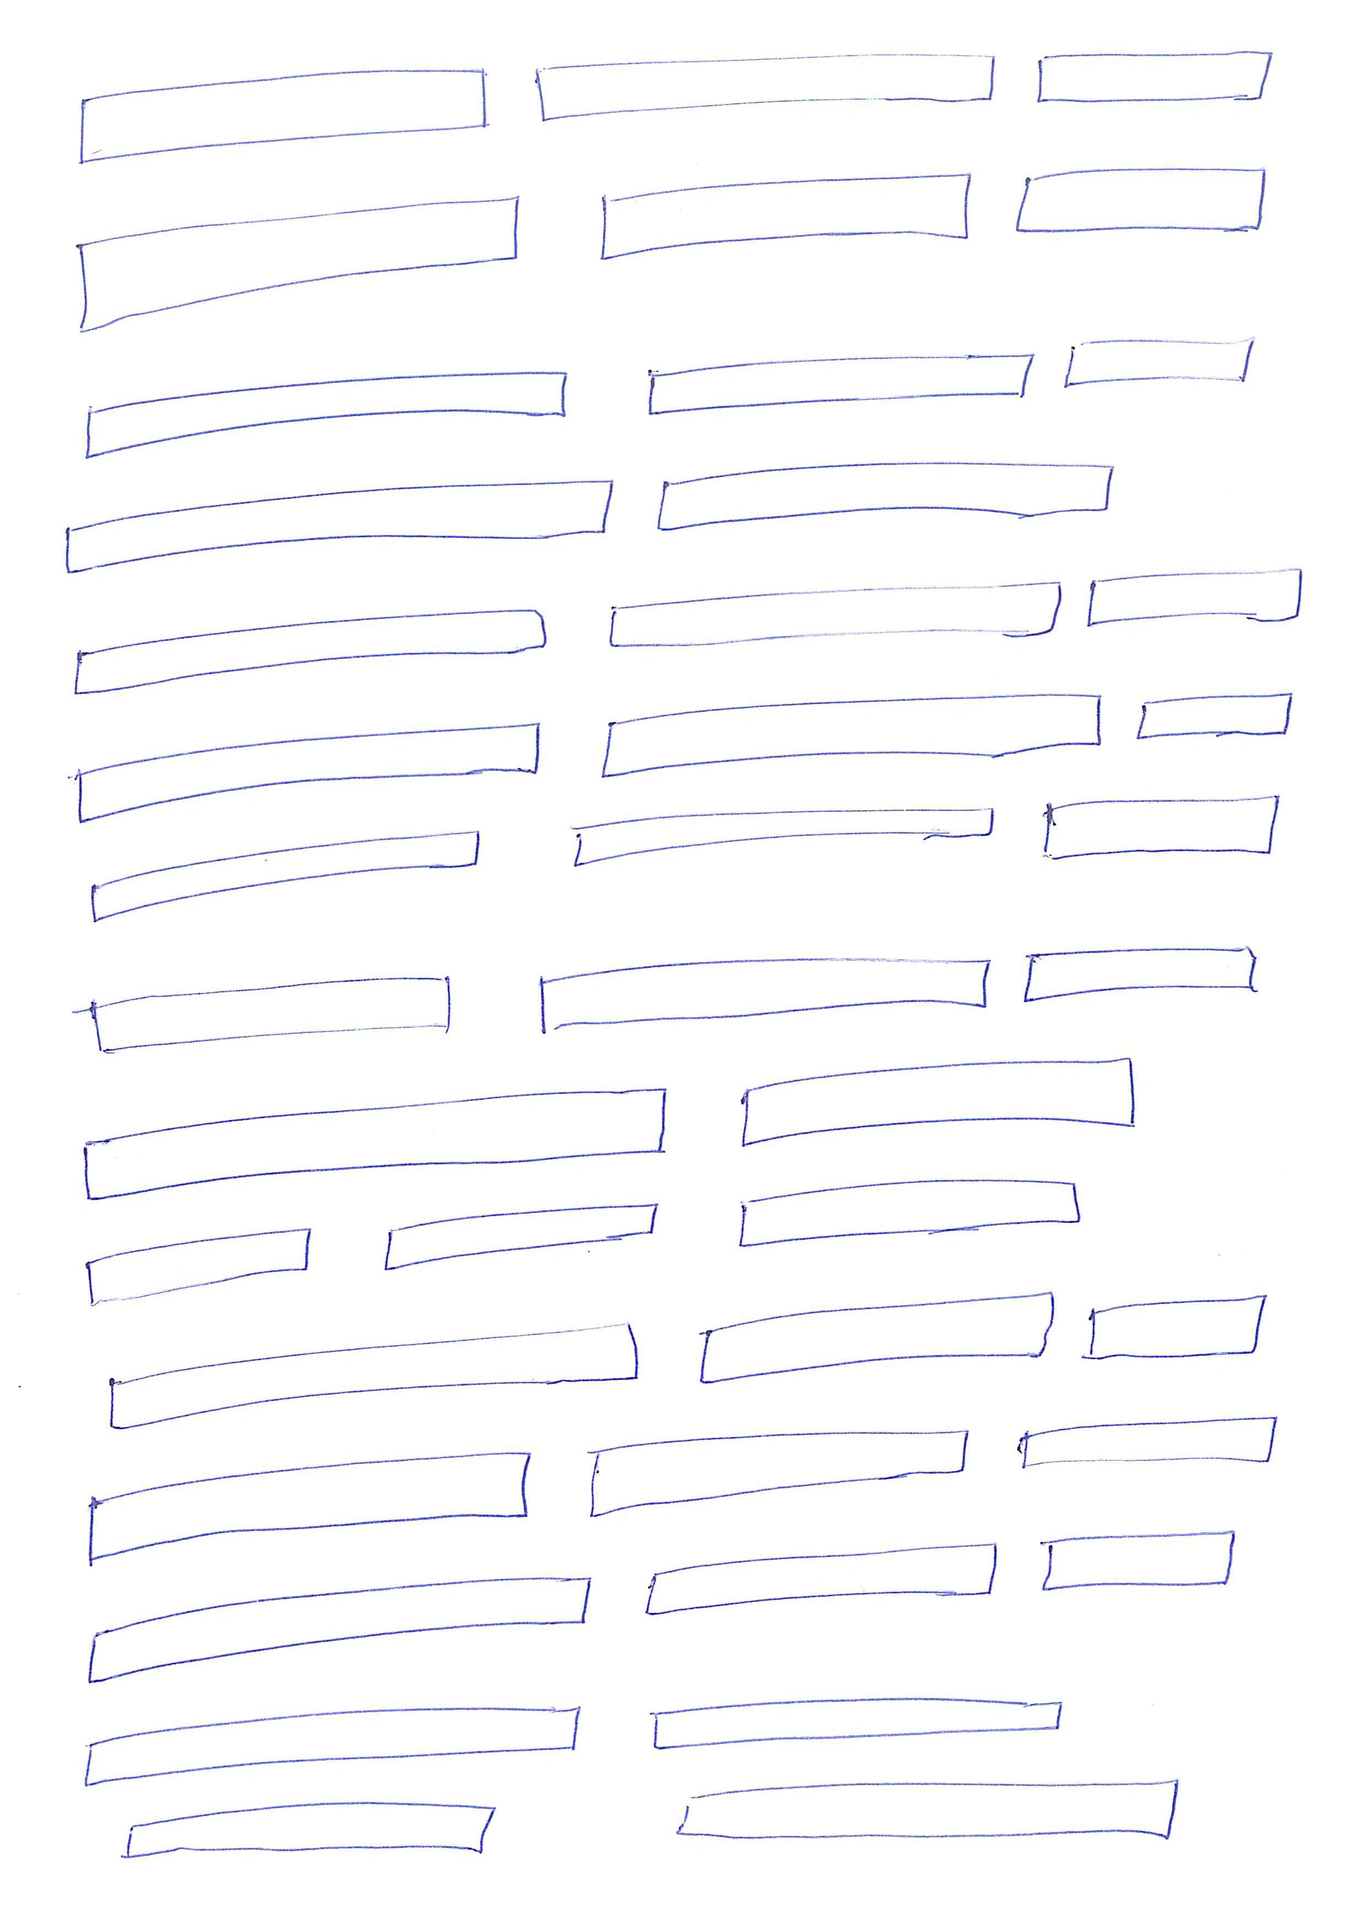Textbox: (77, 1087, 667, 1204), (75, 194, 522, 336), (106, 1320, 642, 1433), (84, 1569, 591, 1687), (61, 476, 614, 577), (84, 1445, 532, 1564), (72, 717, 544, 827), (597, 688, 1104, 781), (81, 367, 568, 461), (78, 1702, 581, 1789), (71, 606, 548, 696), (77, 64, 491, 166), (87, 827, 486, 926), (537, 951, 992, 1036), (585, 1424, 968, 1521), (738, 1056, 1135, 1149), (696, 1286, 1056, 1387), (596, 169, 971, 262), (652, 458, 1115, 534), (529, 52, 999, 124), (605, 577, 1064, 651), (674, 1777, 1180, 1844), (89, 971, 452, 1054), (642, 1538, 1001, 1619), (568, 804, 996, 869), (642, 347, 1036, 415), (732, 1174, 1084, 1249), (648, 1691, 1061, 1752), (114, 1796, 497, 1862), (378, 1196, 659, 1275), (81, 1224, 312, 1307), (1010, 164, 1265, 237), (1036, 795, 1282, 862), (1016, 1412, 1277, 1473), (1019, 943, 1260, 1007), (1030, 49, 1274, 109), (1082, 1291, 1268, 1366), (1036, 1526, 1239, 1594), (1082, 566, 1304, 628), (1057, 333, 1254, 387), (1131, 690, 1294, 742)
